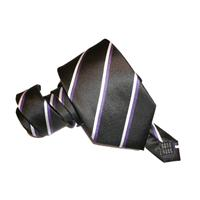tie: (15, 39, 180, 162)
